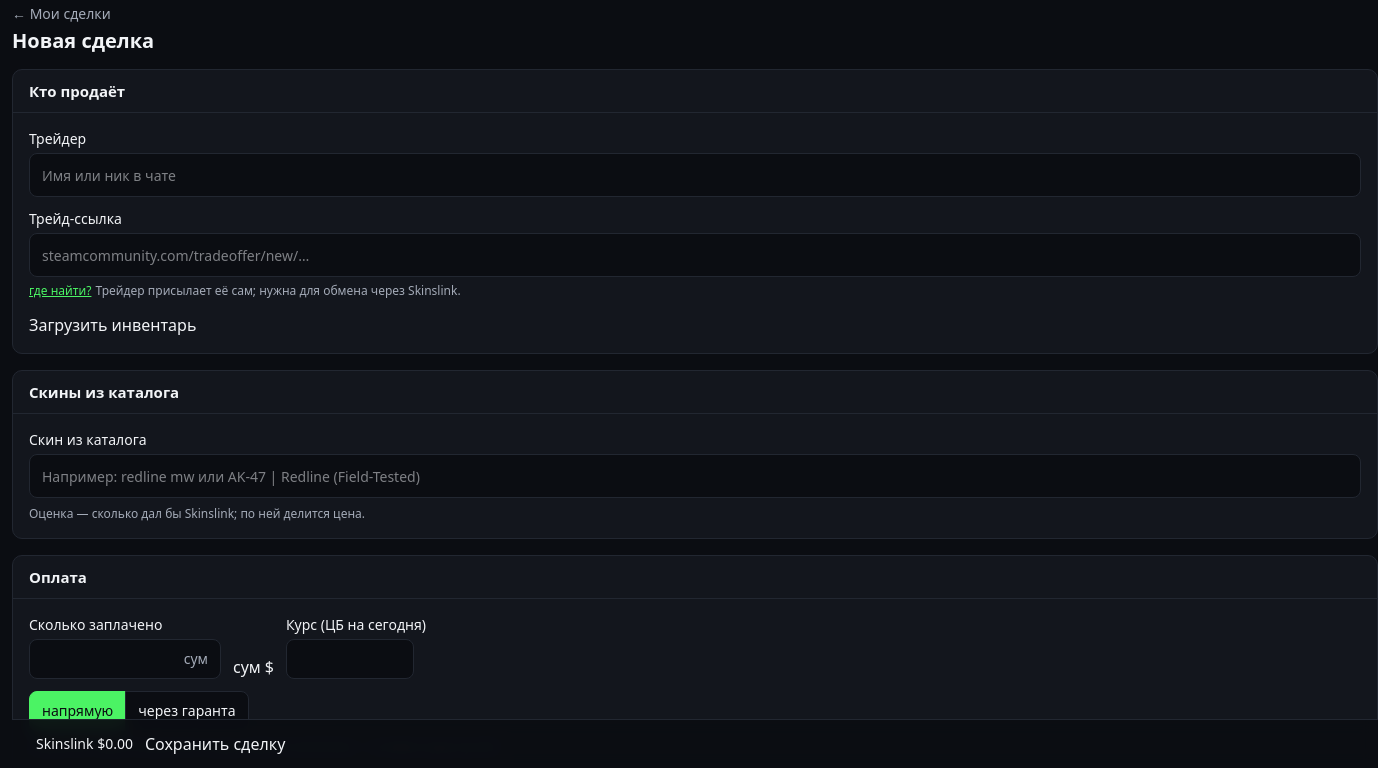
Test: NewDealPage › suggests a known trader and fills the last trade link
Type "trad" into the field labelled "Трейдер".
click(695, 175); type("trad")  # box top-left (29, 153), bottom-right (1361, 197)
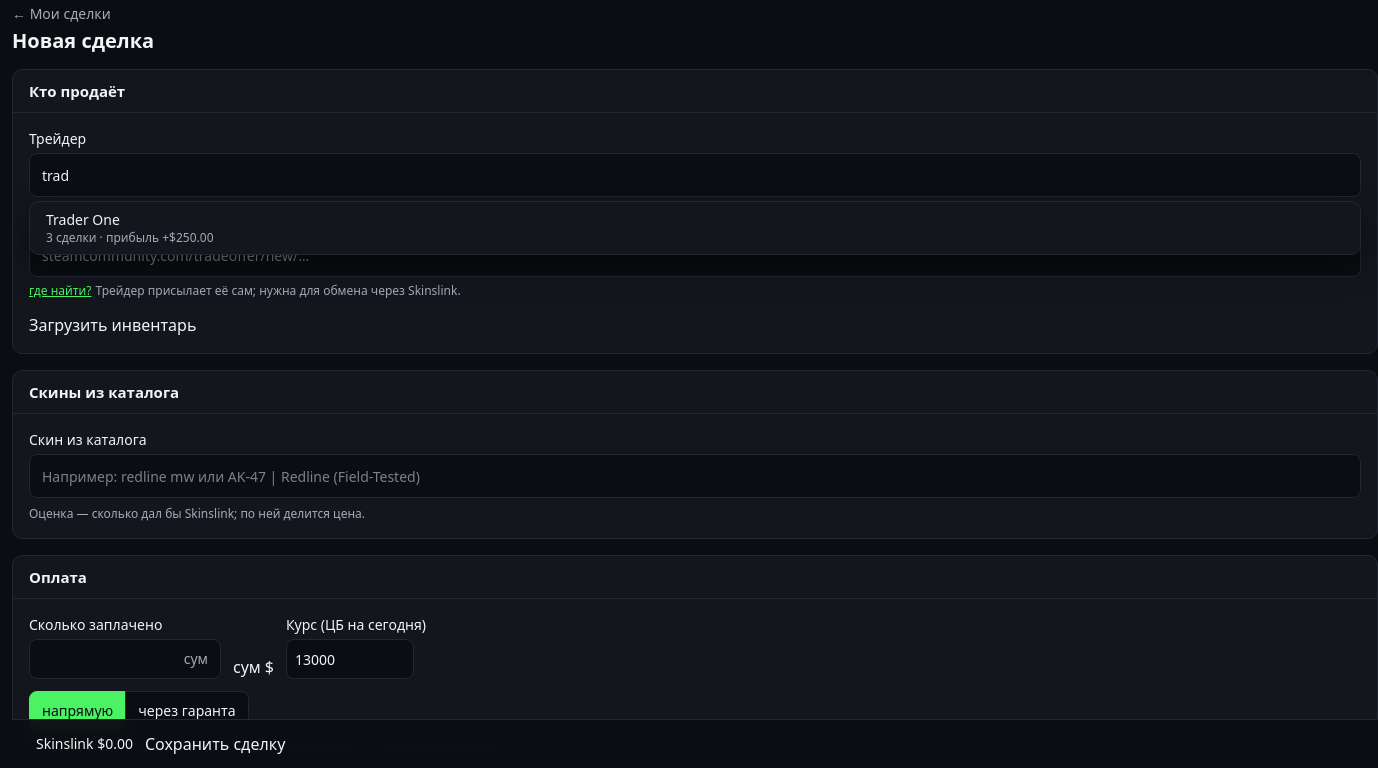
Click the button "Trader One 3 сделки · прибыль +$250.00".
click(83, 220)  # box top-left (34, 206), bottom-right (1356, 250)
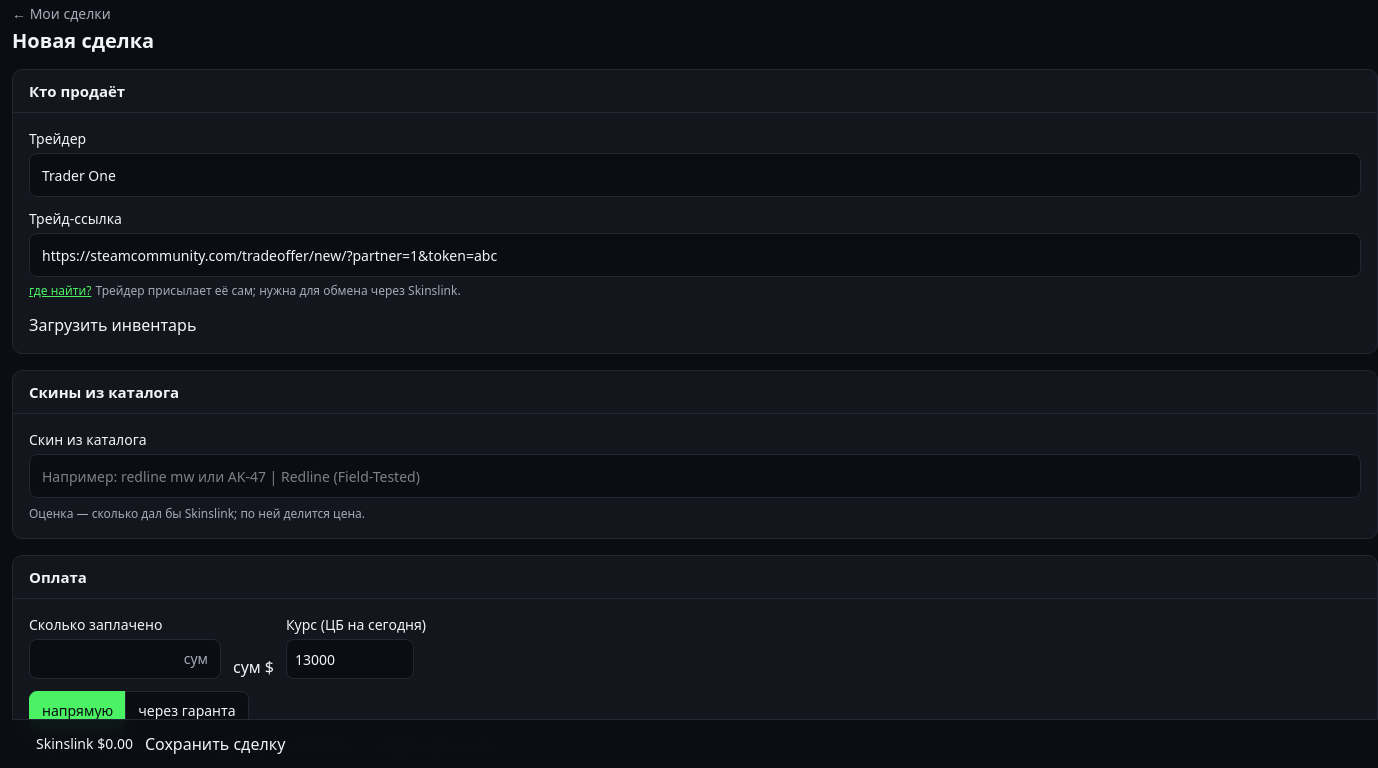
expect the field labelled "Трейдер" holds "Trader One": met, box top-left (29, 153), bottom-right (1361, 197)
expect the field labelled "Трейд-ссылка" holds "https://steamcommunity.com/tradeoffer/new/?partner=1&token=abc": met, box top-left (29, 233), bottom-right (1361, 277)
